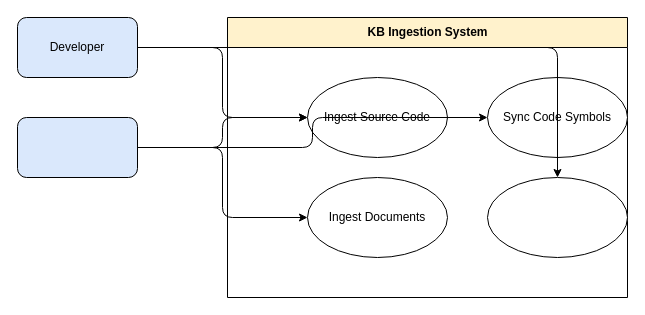
Some shapes in this 645 by 315 pixel diagram are drawn without their labels. Here are the shapes that lost their labels. From the top down, the centre of each, then its label:
At point (77, 147): "Extension".
At point (557, 217): "Surface Error Details".
